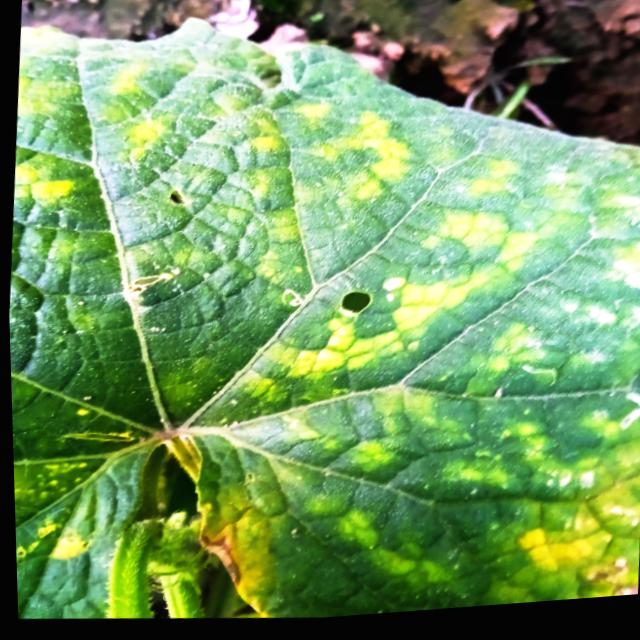Downy-Mildew: (8, 16, 640, 621)
